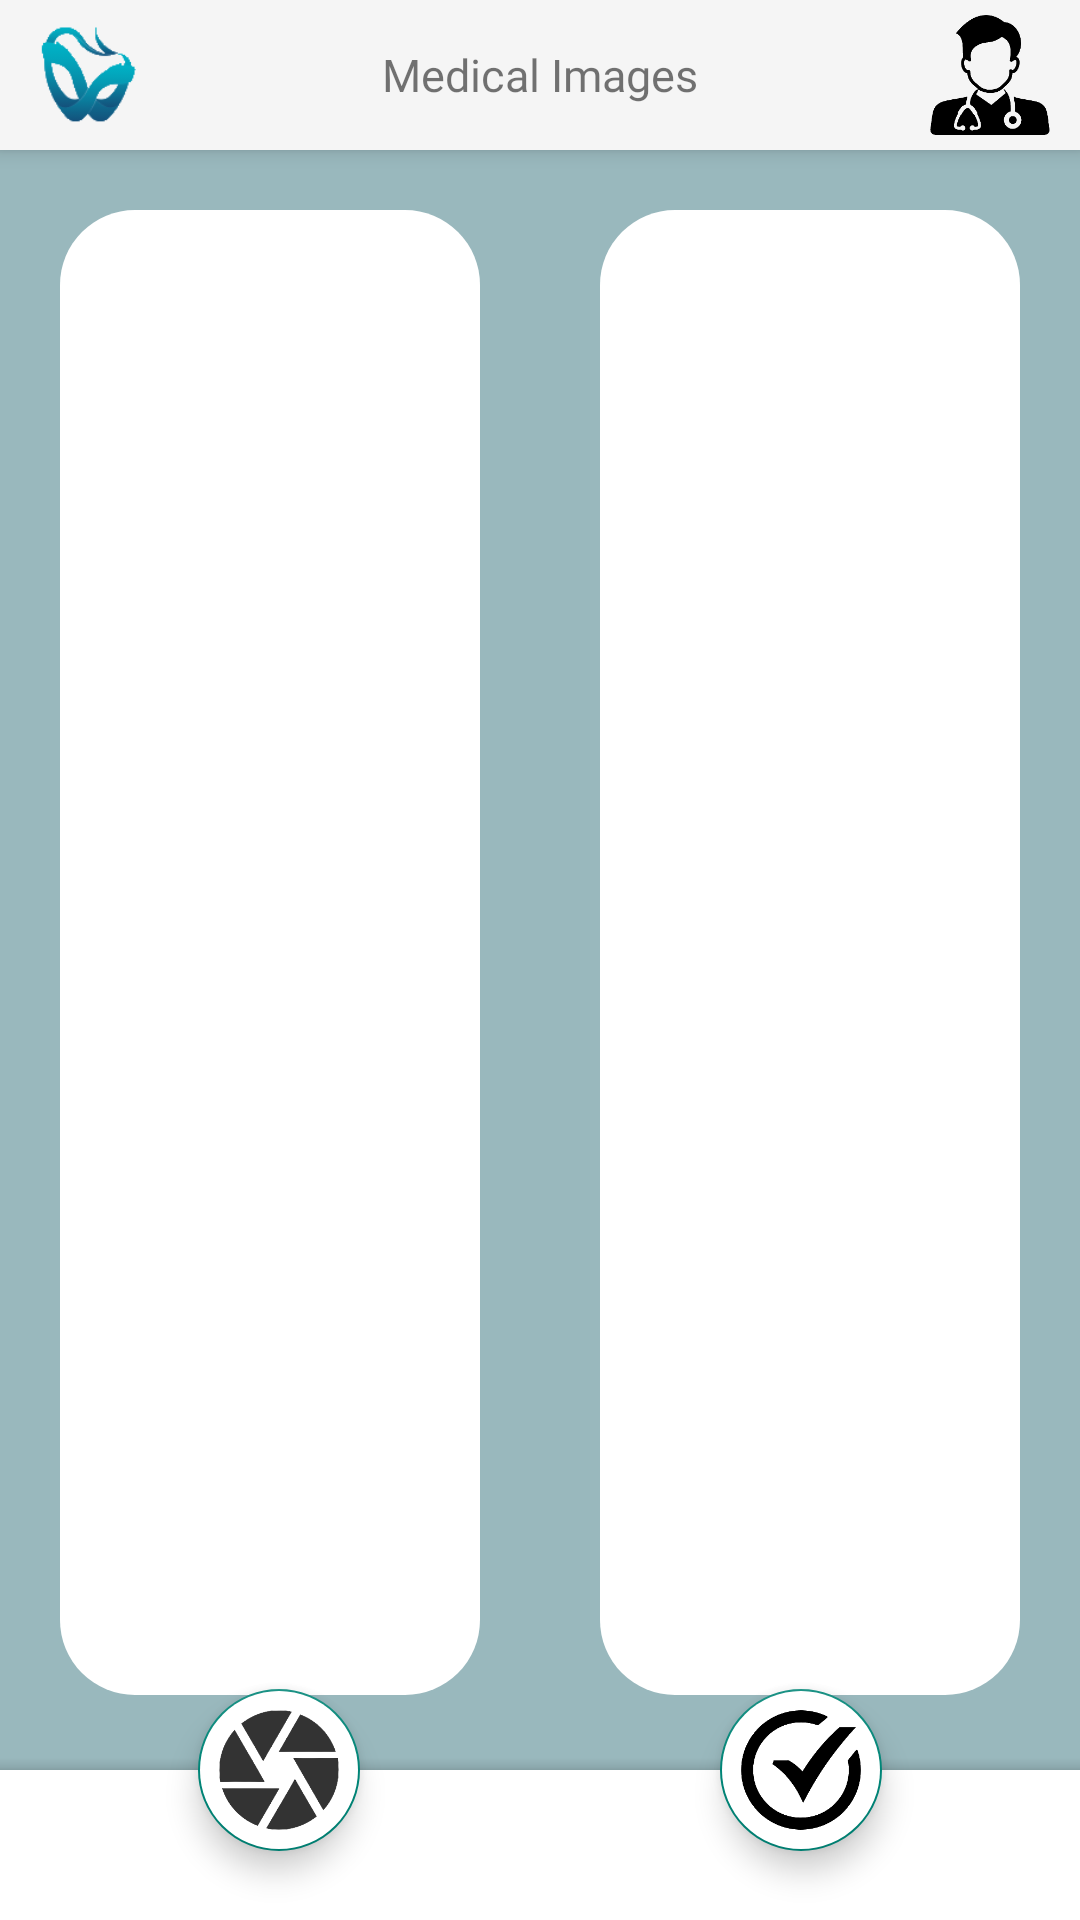

Icons on this 1080px×1920px Android screen, each with the point to tap as [x,y]:
complete: [801,1770]
doctor: [990,75]
